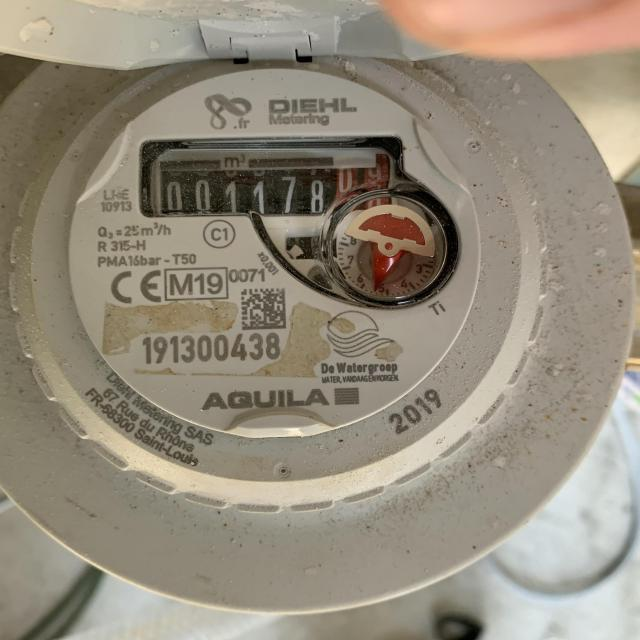gaz_meter: (67, 68, 486, 438)
indication: (140, 143, 391, 215)
